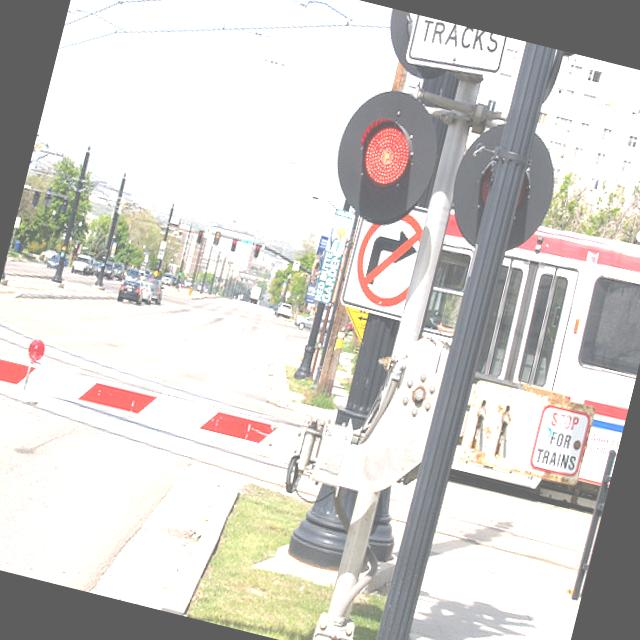Vehicle: (34, 232, 212, 302), (115, 277, 146, 309), (70, 250, 94, 278), (141, 278, 165, 304), (94, 257, 118, 279), (134, 280, 154, 304), (294, 310, 314, 332), (123, 266, 141, 284), (111, 262, 127, 282), (275, 301, 293, 318), (160, 270, 173, 286), (46, 254, 59, 269), (136, 268, 149, 282)
